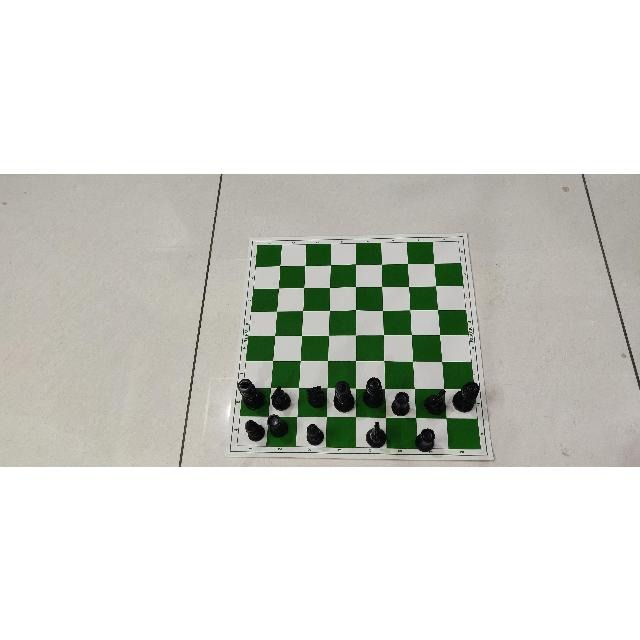black-bishop: (241, 419, 265, 444), (243, 418, 264, 442), (305, 422, 324, 444)
black-king: (233, 376, 265, 410), (330, 376, 355, 412), (237, 379, 265, 410)
black-knight: (267, 382, 295, 412), (363, 416, 387, 449), (302, 384, 328, 410), (423, 388, 449, 414), (365, 422, 389, 448), (303, 385, 327, 409), (268, 388, 292, 410)
black-queen: (451, 378, 478, 418), (361, 376, 385, 409), (363, 375, 386, 407)
black-rook: (262, 411, 290, 437), (413, 427, 439, 454), (389, 389, 413, 416), (267, 412, 290, 438), (414, 426, 435, 451), (391, 390, 411, 416)
